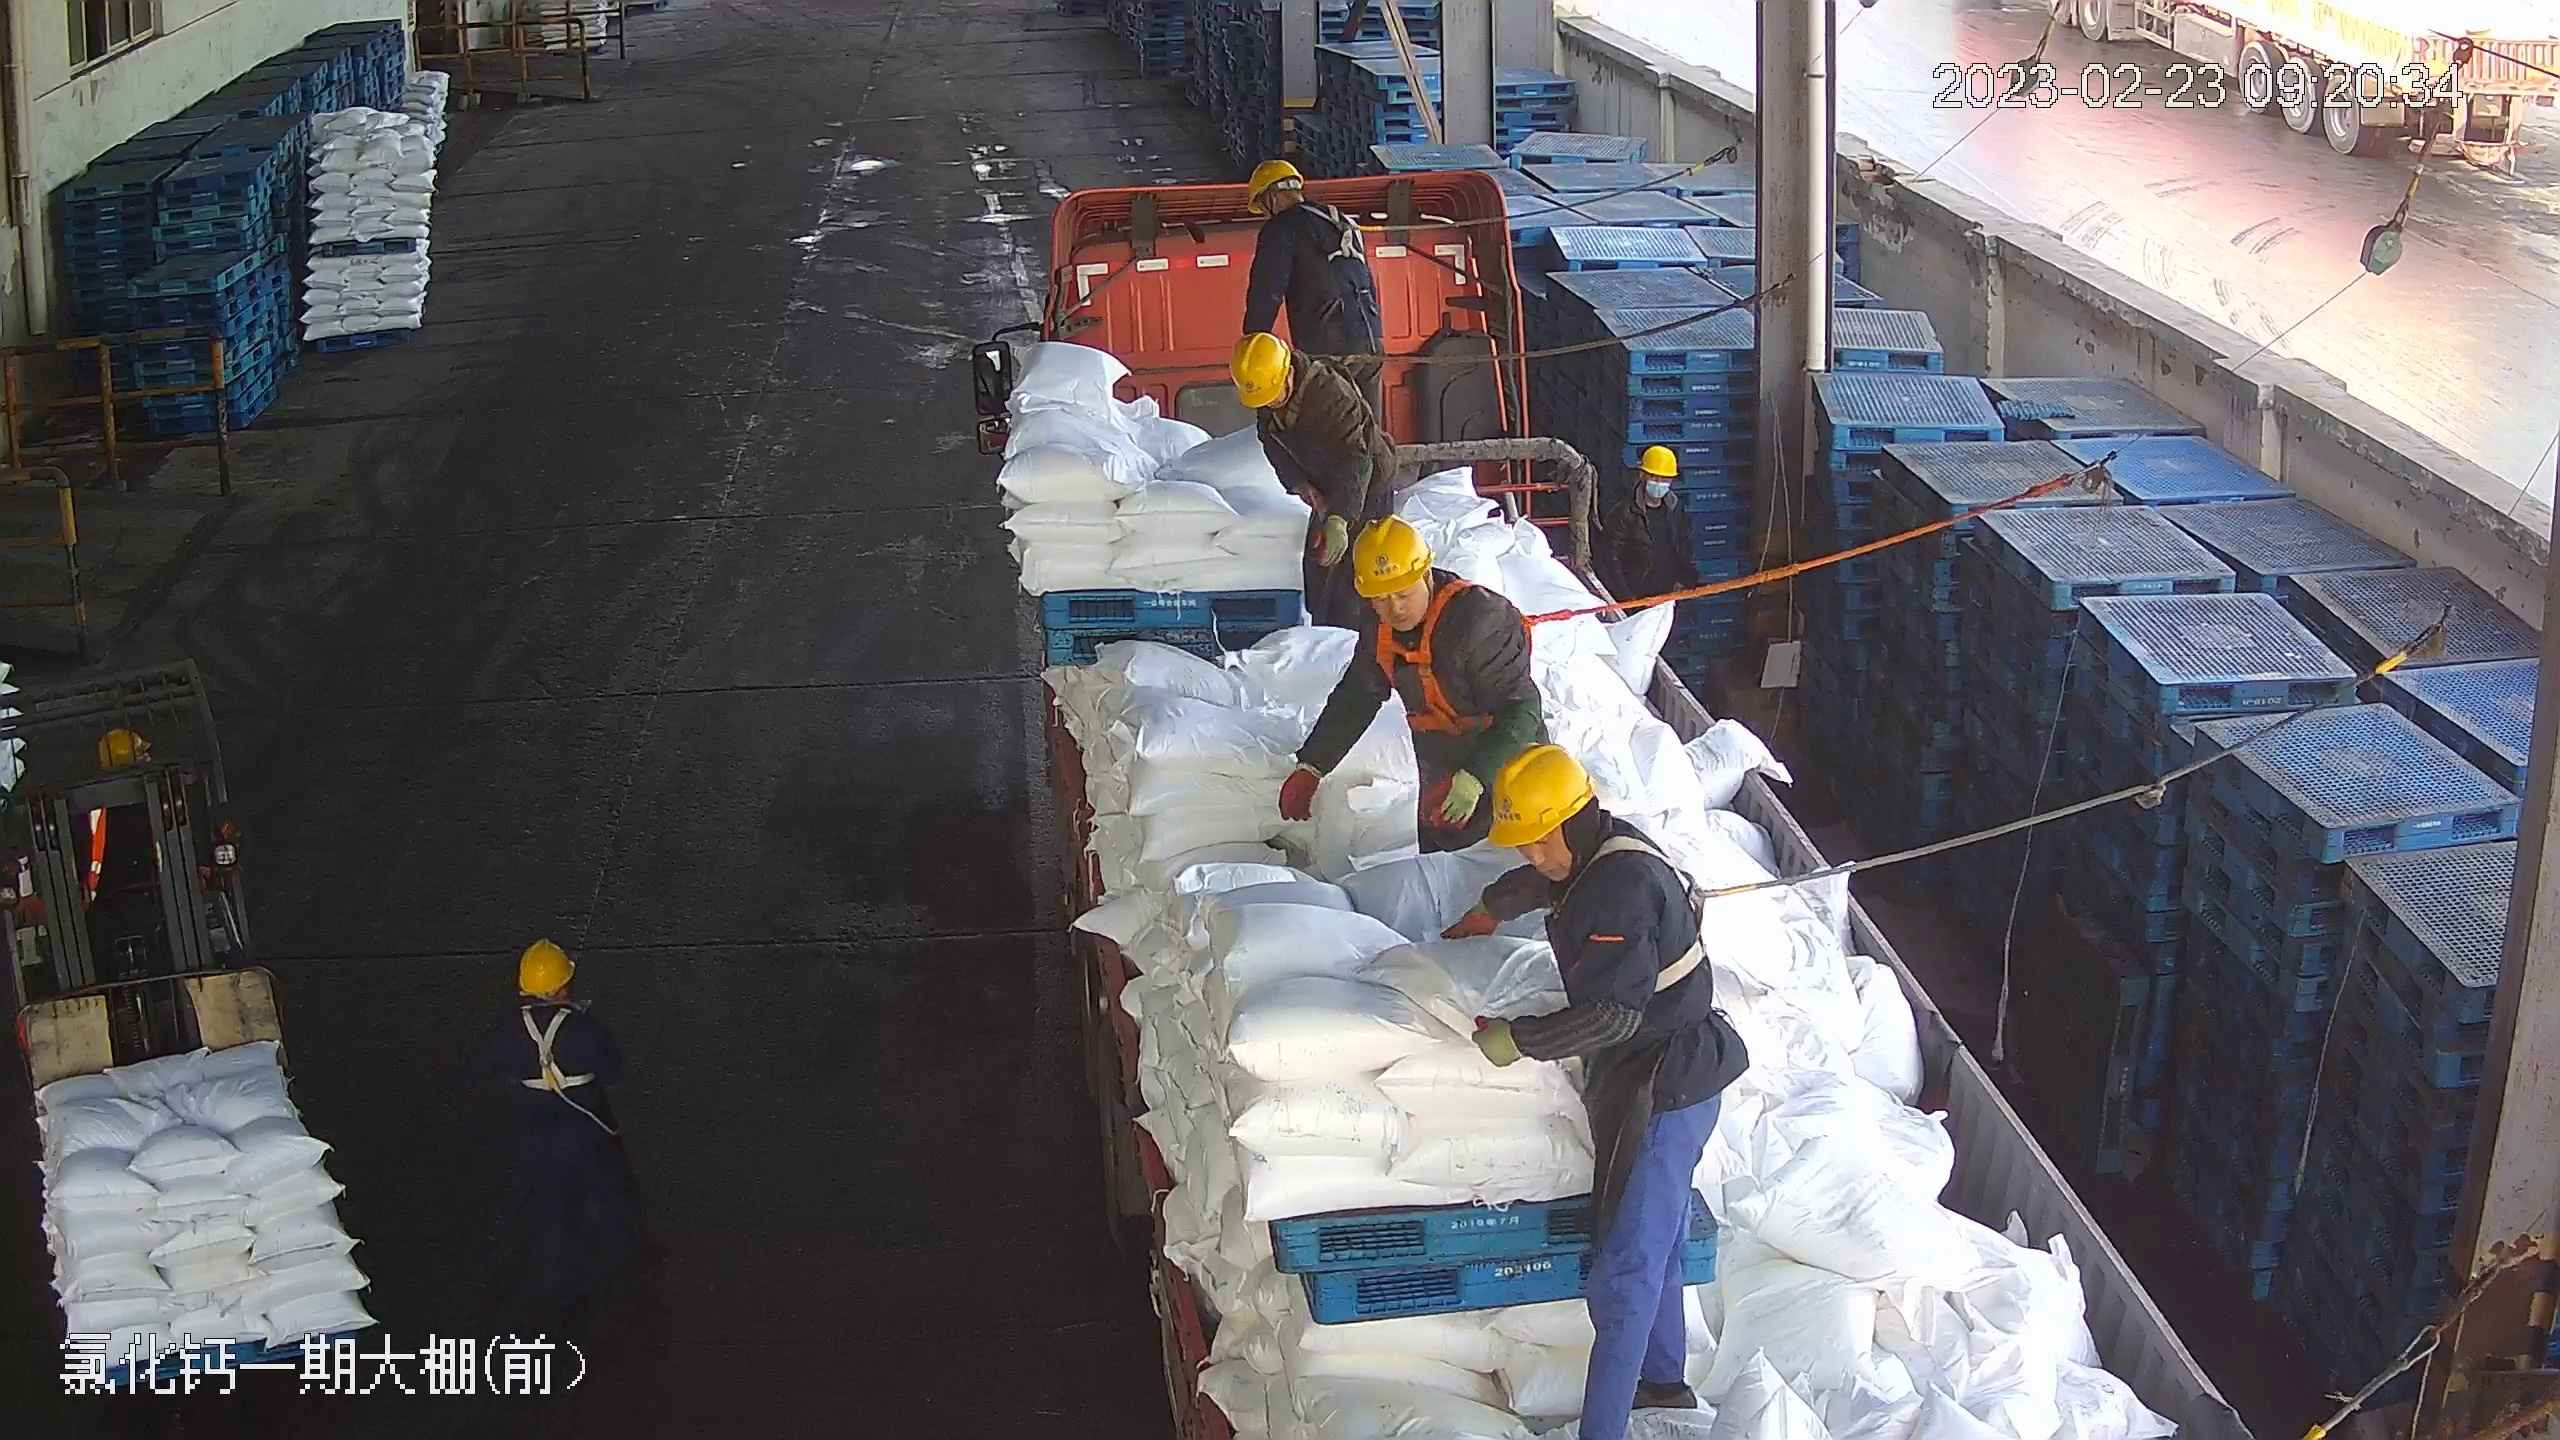belt: (1562, 814, 1741, 994), (1373, 581, 1557, 736), (1277, 344, 1381, 435), (512, 1000, 598, 1096), (1304, 204, 1378, 265)
head: (1485, 742, 1690, 924), (1344, 512, 1516, 668), (499, 936, 609, 1050), (1243, 160, 1356, 258), (1609, 443, 1689, 533)
helmet: (1487, 742, 1595, 845), (1349, 514, 1435, 597), (1231, 330, 1291, 405), (516, 937, 576, 993), (1243, 157, 1304, 207), (95, 727, 148, 762), (1637, 442, 1678, 478)
people: (1447, 747, 1750, 1428), (1281, 515, 1551, 848), (492, 939, 645, 1315), (1218, 332, 1390, 644), (1243, 159, 1389, 432), (1600, 442, 1696, 612)
truck: (985, 164, 2239, 1433)
